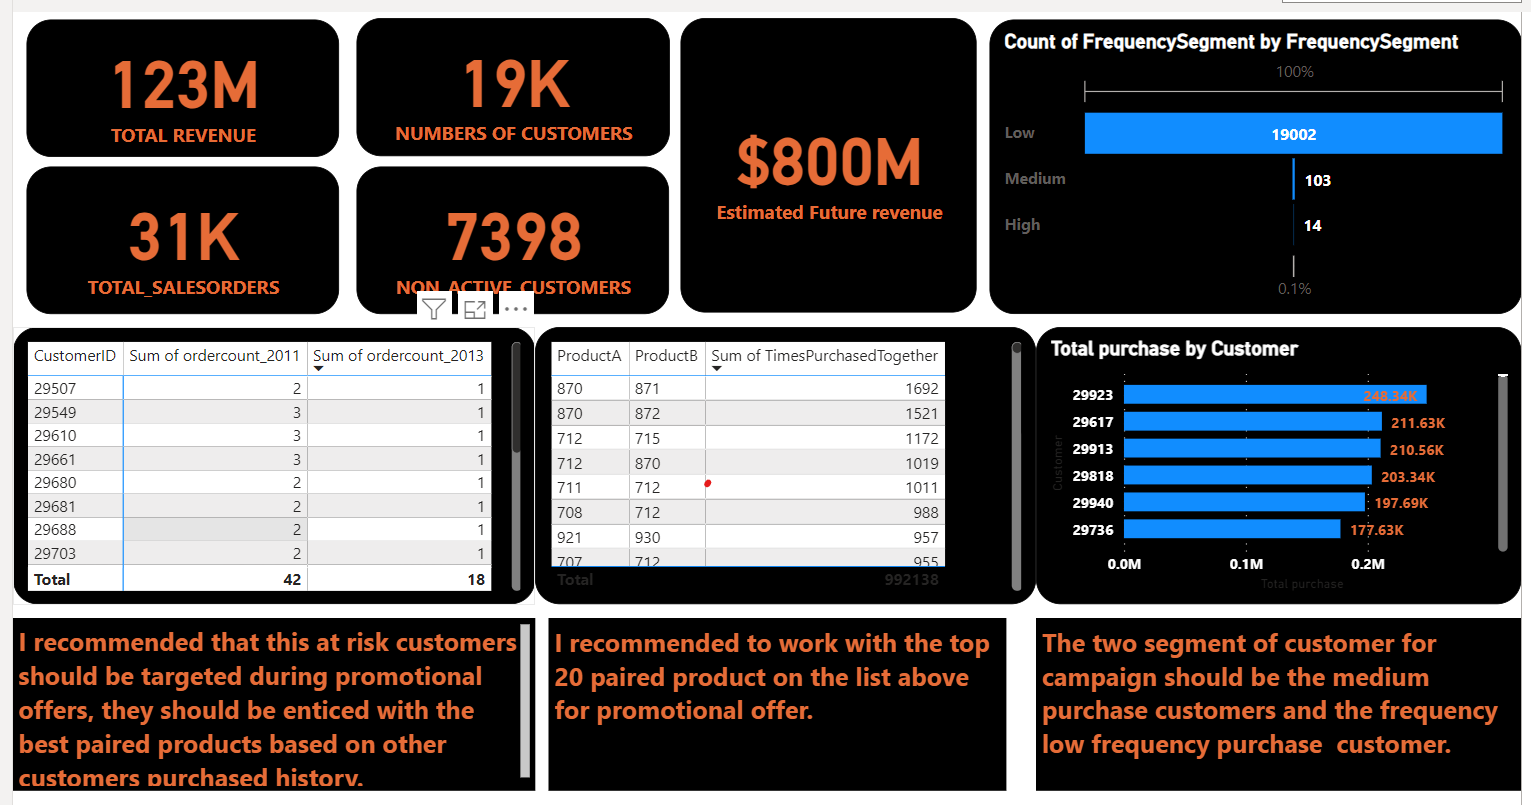

The dashboard page shown, as its layout file describes it:
{"tool":"powerbi","page":{"name":"Page 1","canvas":[1280,720],"ordinal":0},"visuals":[{"type":"card","fields":{"Values":["Sum(RFM_analysis.total_monetary_value)"]},"box":[11.7,51.7,265,116.7],"z":0},{"type":"card","fields":{"Values":["CountNonNull(RFM_analysis.CustomerID)"]},"box":[291.4,51.4,265.7,117.1],"z":1000},{"type":"card","fields":{"Values":["Sum(RFM_analysis.frequency)"]},"box":[11.7,176.7,265,125],"z":2000},{"type":"card","fields":{"Values":["CountNonNull(no_purchasecustomer_in6moth.CustomerID)"]},"box":[291.7,176.7,265,125],"z":3000},{"type":"pivotTable","fields":{"Rows":["customer_decline_frequency.CustomerID"],"Values":["Sum(customer_decline_frequency.ordercount_2011)","Sum(customer_decline_frequency.ordercount_2013)"]},"box":[0,313.3,443.3,235],"z":4000},{"type":"textbox","box":[0,560,443.3,146.7],"z":5000},{"type":"tableEx","fields":{"Values":["highest_paired_product.ProductA","highest_paired_product.ProductB","Sum(highest_paired_product.TimesPurchasedTogether)"]},"box":[443.3,313.3,425,235],"z":6000},{"type":"textbox","box":[455,560,388.3,146.7],"z":7000},{"type":"clusteredBarChart","fields":{"Category":["customer_purchase_history.CustomerID"],"Y":["Sum(customer_purchase_history.totaldue)"]},"box":[868.3,313.3,411.7,235],"z":8000},{"type":"textbox","box":[868.3,560,411.7,146.7],"z":9000},{"type":"funnel","fields":{"Category":["besttiming_promotional.FrequencySegment"],"Y":["CountNonNull(besttiming_promotional.FrequencySegment)"]},"box":[828.3,51.7,451.7,250],"z":10000},{"type":"card","fields":{"Values":["Sum(Query1.estimated_future_revenue)"]},"box":[567.1,51.4,251.4,250],"z":11000}]}

Visuals, with their boxes in screenshot pixels (x1, y1, x2, y2):
card - Sum(RFM_analysis.total_monetary_value): select_region(18, 13, 332, 152)
card - CountNonNull(RFM_analysis.CustomerID): select_region(349, 13, 665, 152)
card - Sum(RFM_analysis.frequency): select_region(18, 162, 332, 310)
card - CountNonNull(no_purchasecustomer_in6moth.CustomerID): select_region(350, 162, 664, 310)
pivotTable - customer_decline_frequency.CustomerID x Sum(customer_decline_frequency.ordercount_2011): select_region(4, 324, 530, 602)
textbox: select_region(4, 616, 530, 790)
tableEx - highest_paired_product.ProductA x highest_paired_product.ProductB: select_region(530, 324, 1034, 602)
textbox: select_region(543, 616, 1004, 790)
clusteredBarChart - customer_purchase_history.CustomerID x Sum(customer_purchase_history.totaldue): select_region(1034, 324, 1522, 602)
textbox: select_region(1034, 616, 1522, 790)
funnel - besttiming_promotional.FrequencySegment x CountNonNull(besttiming_promotional.FrequencySegment): select_region(986, 13, 1522, 310)
card - Sum(Query1.estimated_future_revenue): select_region(676, 13, 974, 310)
